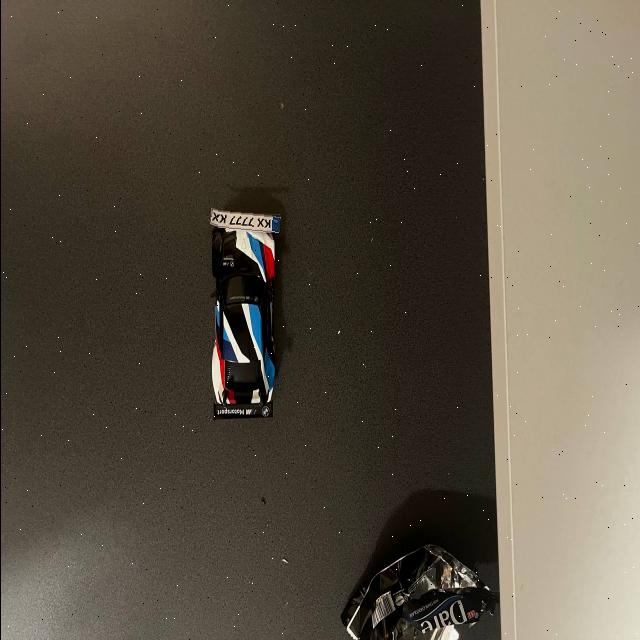KX 7777 KX: (208, 207, 284, 235)
